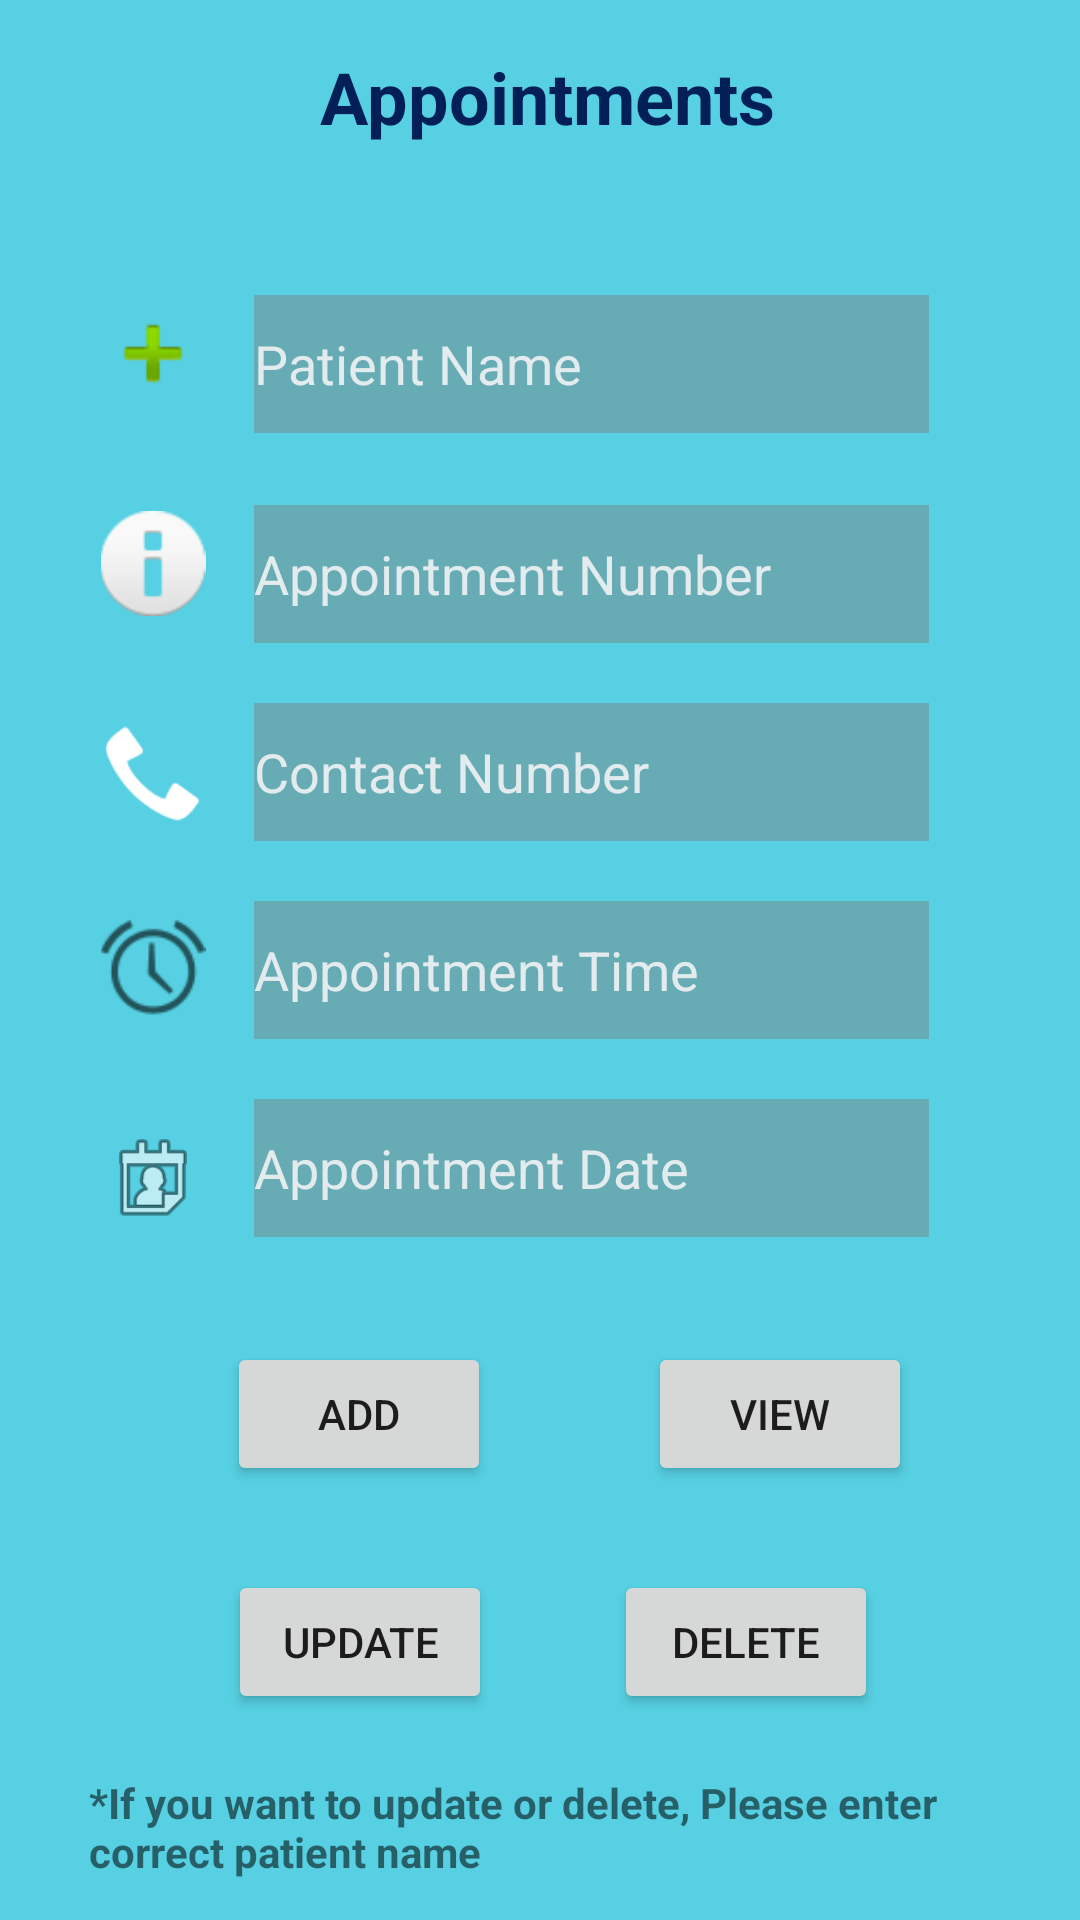

Icons on this 1080x1920 Android screen, each with the point to tap as [x,y]:
add: [153,353]
calendar: [153,1177]
info: [153,563]
lock idle alarm: [153,967]
phone call: [153,773]
